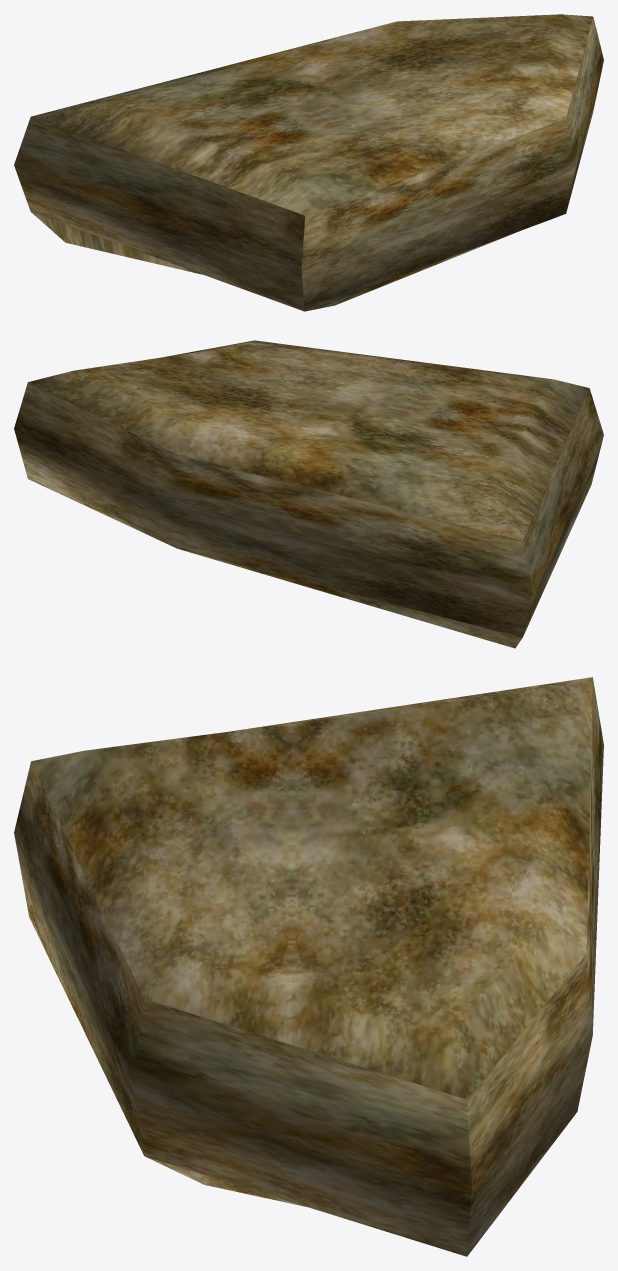
Rendered from TROLLHOLE02_RM_FALL_ROCK09.fbx.
The picture shows the model from 3 angles, top to bottom: view 1: azimuth 30°, elevation 25°; view 2: azimuth 150°, elevation 25°; view 3: azimuth 270°, elevation 25°; orthographic projection. The views are drawn at different scales.
Visible parts, largest first — view 1: TROLLHOLE02_RM_FALL_ROCK09; view 2: TROLLHOLE02_RM_FALL_ROCK09; view 3: TROLLHOLE02_RM_FALL_ROCK09.
Part boxes in pixels (bbox=[...]): TROLLHOLE02_RM_FALL_ROCK09: bbox=[14, 14, 603, 311]; TROLLHOLE02_RM_FALL_ROCK09: bbox=[14, 340, 603, 648]; TROLLHOLE02_RM_FALL_ROCK09: bbox=[14, 677, 603, 1256].
Bounding box in the file's own units: 18139 × 5041 × 10206.
1 material, 1 textured.
